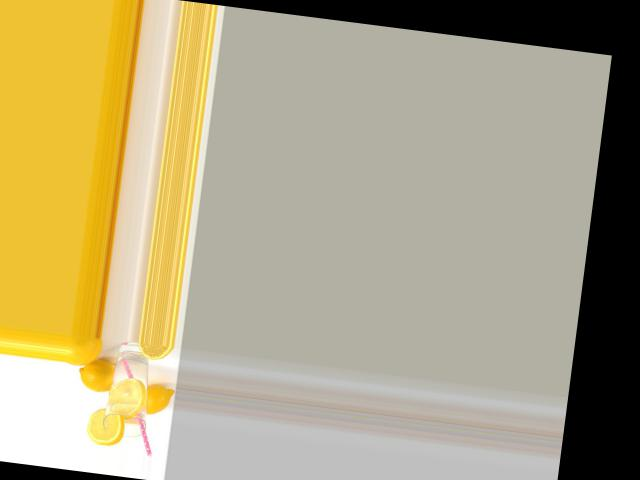lemon: (135, 378, 173, 417)
